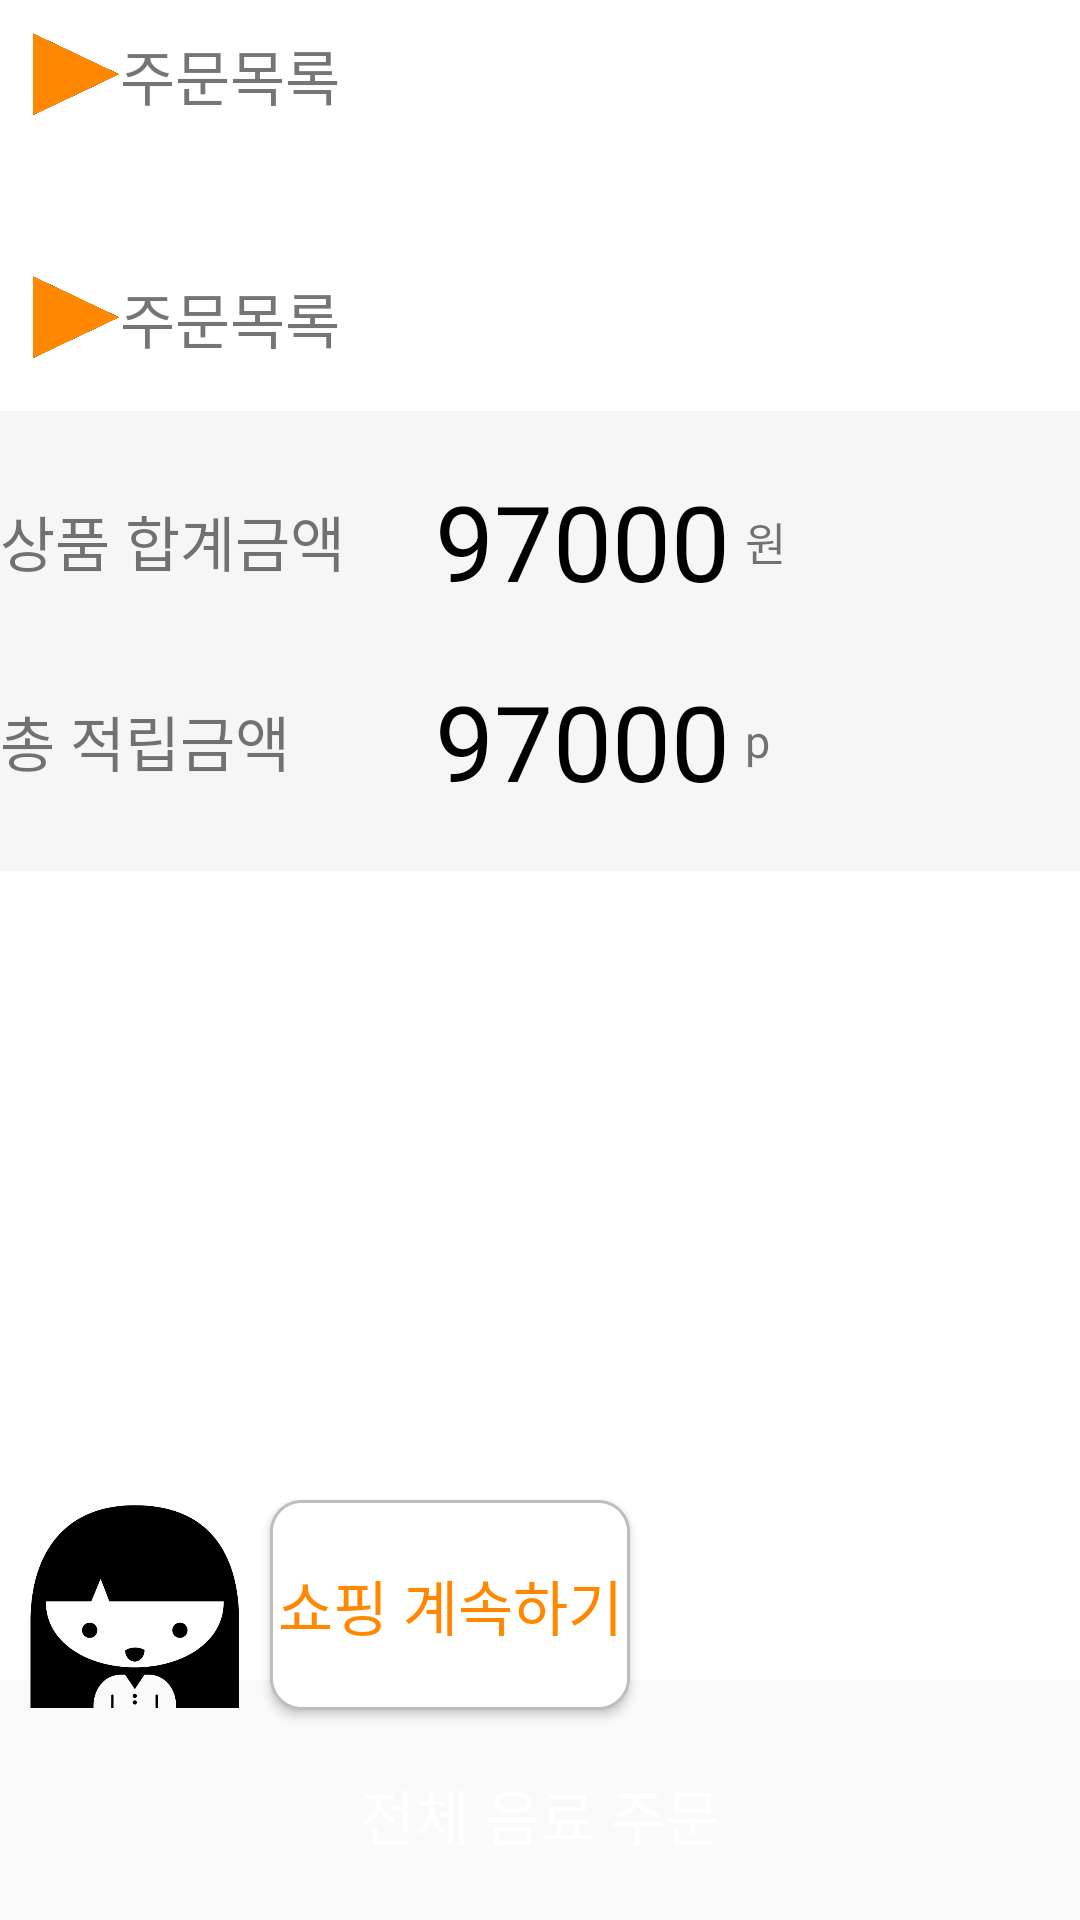

Screen size 1080px x 1920px. Icon name, then its box in pixels as (x1, y1, x2, y2):
girl: (30, 1505, 239, 1708)
triangle: (33, 33, 119, 115), (33, 276, 119, 358)
